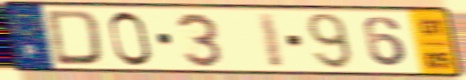0: (106, 10, 155, 68)
3: (173, 10, 226, 69)
6: (362, 15, 410, 69)
9: (303, 11, 356, 71)
D: (44, 8, 106, 68)
I: (255, 11, 287, 70)
